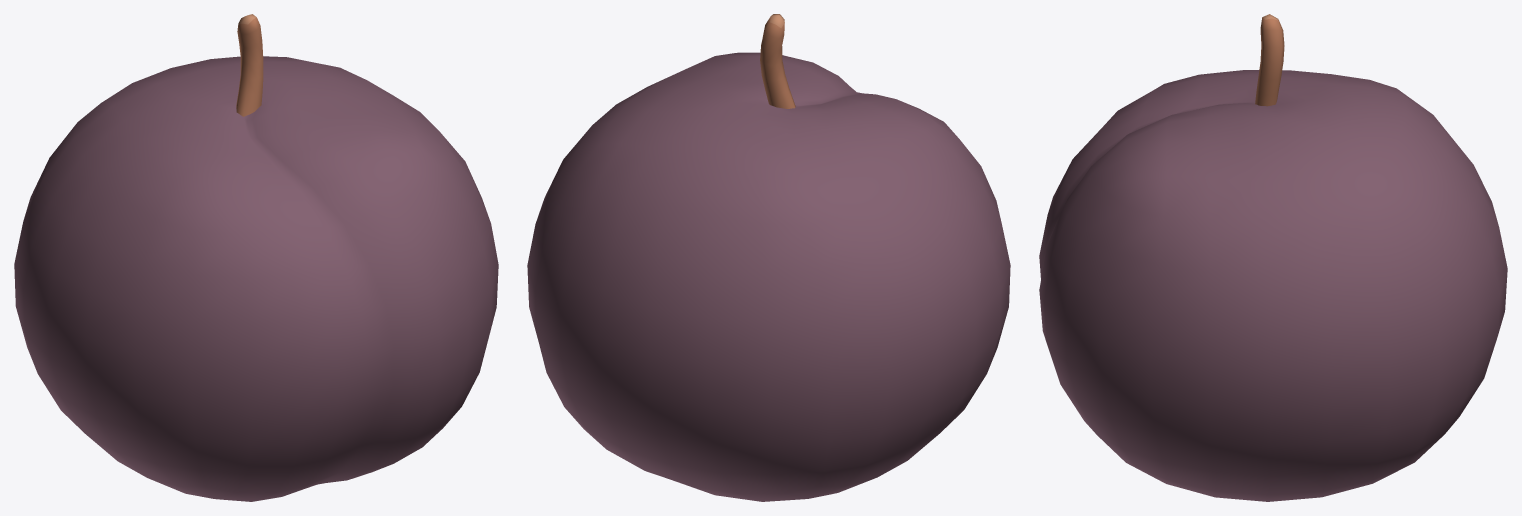
Rendered from Plum_01.dae.
3 renders of one model, left to right at view 1: azimuth 30°, elevation 25°; view 2: azimuth 150°, elevation 25°; view 3: azimuth 270°, elevation 25°, orthographic.
Visible parts, largest first — view 1: Plum_01_LOD0; view 2: Plum_01_LOD0; view 3: Plum_01_LOD0.
Part boxes in pixels (x1,y1,x2,y2): Plum_01_LOD0: (14, 14, 498, 501); Plum_01_LOD0: (527, 14, 1010, 501); Plum_01_LOD0: (1039, 14, 1507, 501).
Size of what is drawn, in the model's own units: 4.32 by 4.25 by 4.62.
